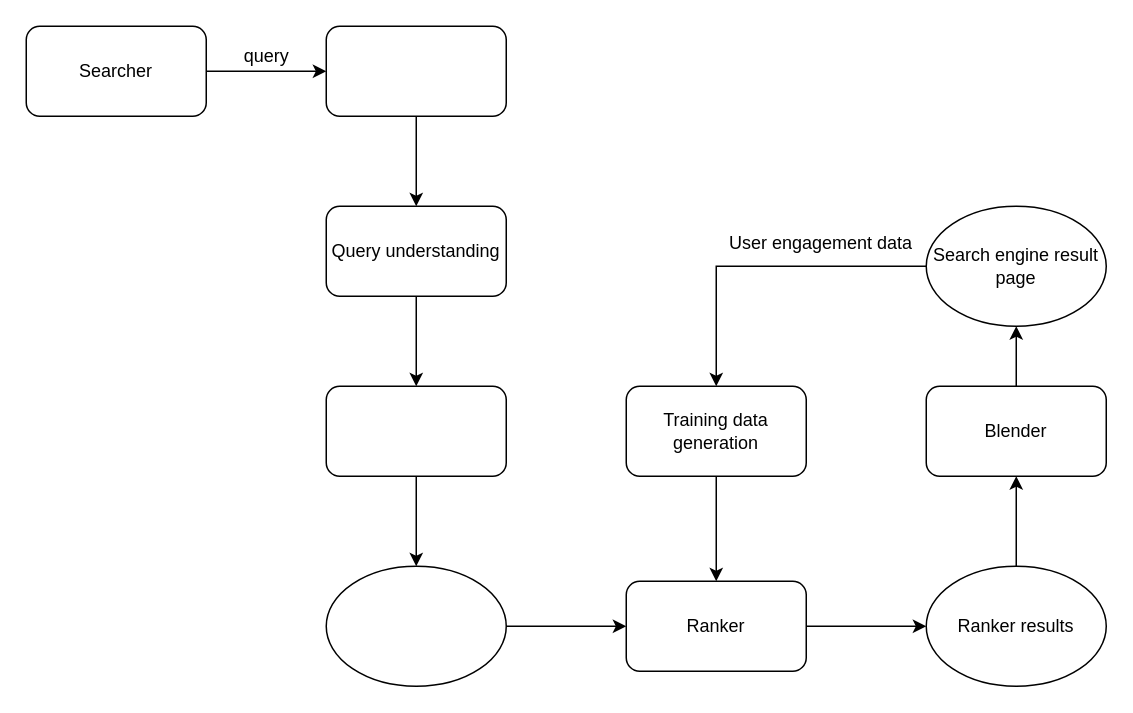
This 1133x713 diagram has some shape labels left out. Here are the shapes that lost their labels. From the top down, the centre of each, then its label:
At [415,70]: "Query rewriting".
At [415,430]: "Document selection".
At [415,625]: "Returned candidates".
